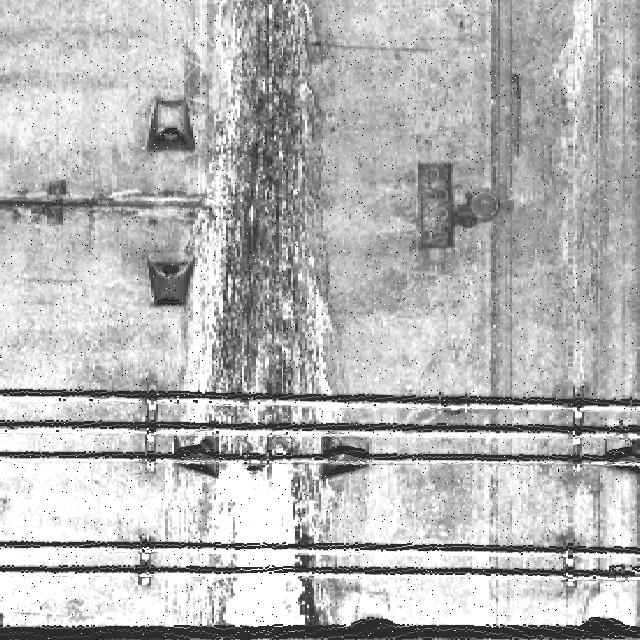leakage: (184, 5, 360, 632)
